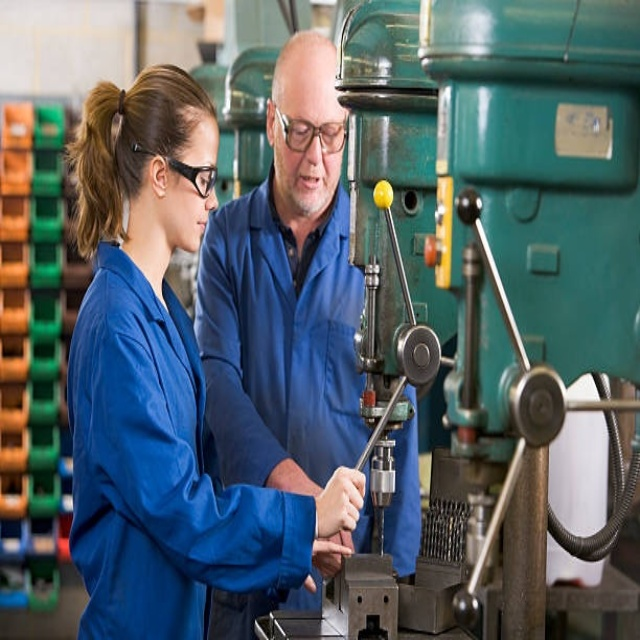Gafas: (132, 145, 218, 198), (273, 103, 349, 154)
Sin_guantes: (315, 468, 367, 540), (309, 529, 349, 583)
Sin_mascara: (182, 205, 212, 253), (294, 163, 328, 202)
